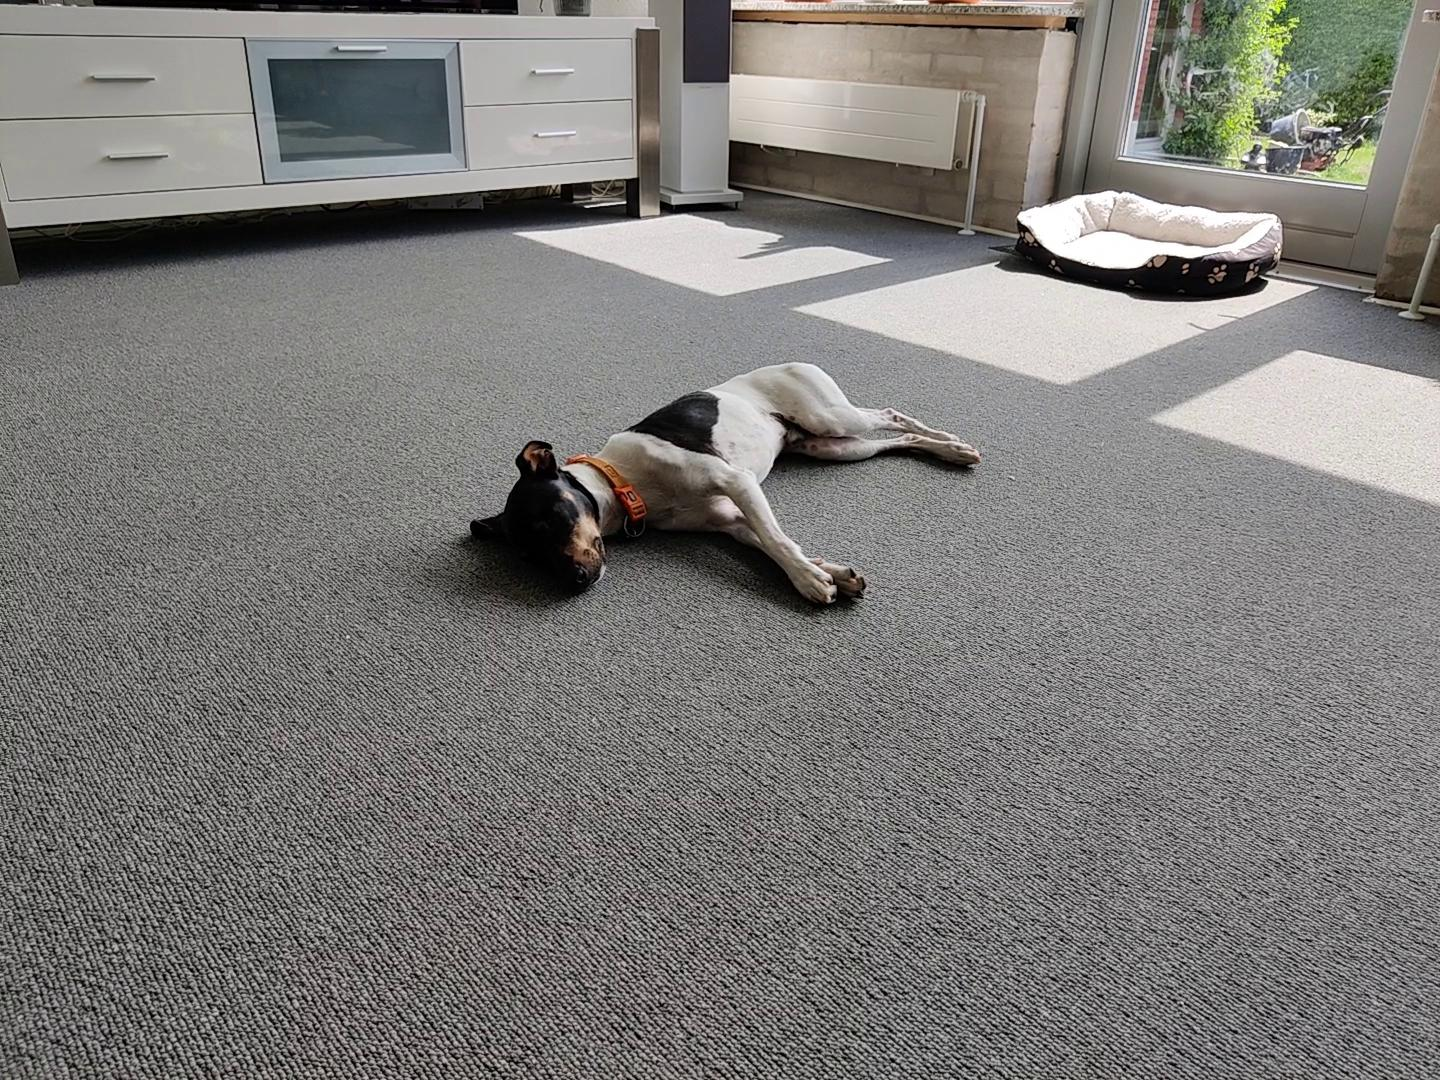Dog: (461, 356, 986, 606)
